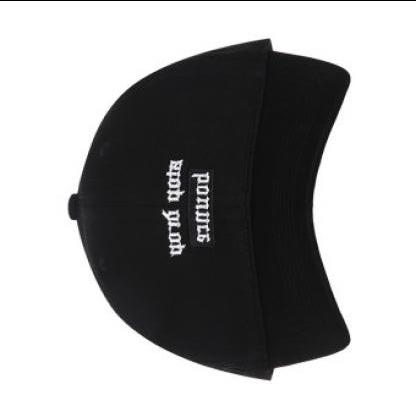cap: (61, 20, 356, 396)
